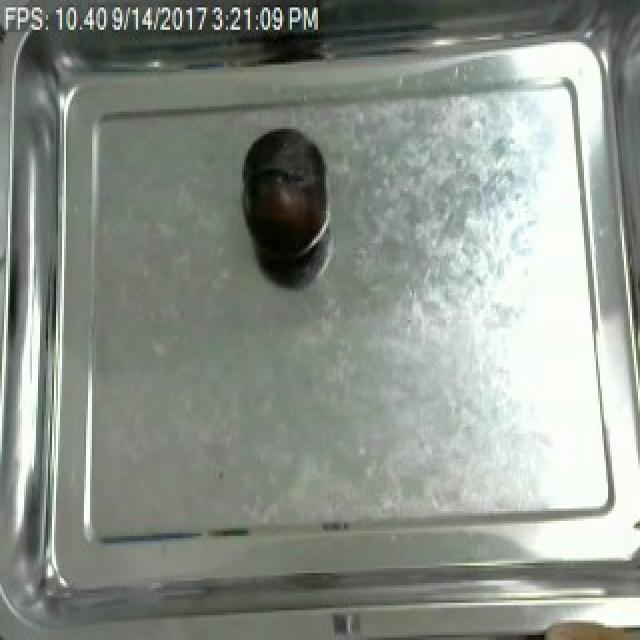Fruit: (236, 124, 332, 265)
